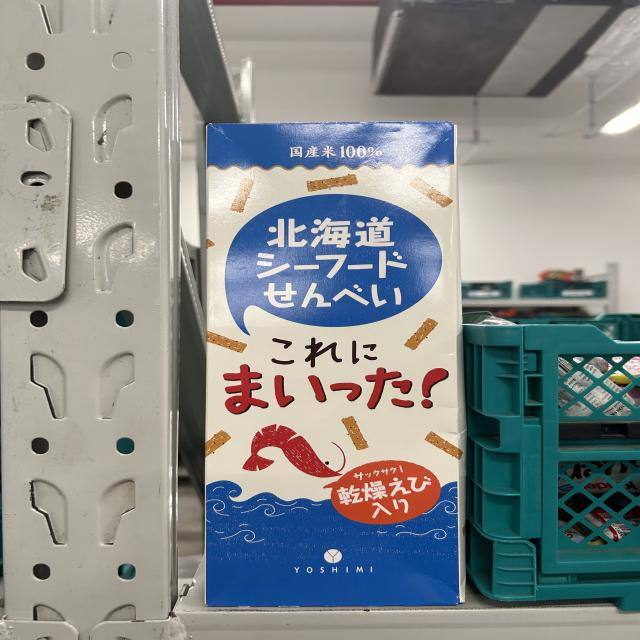object_name: (214, 129, 449, 597)
